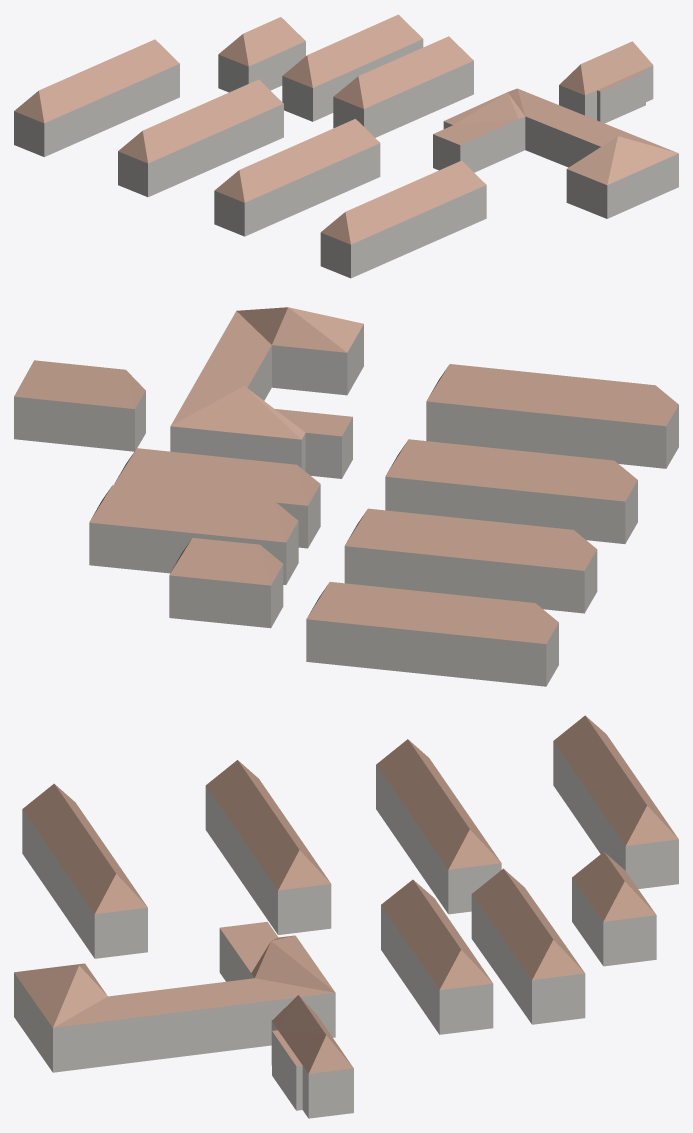
The model's file is gridID_40.dae.
3 renders of one model, top to bottom at view 1: azimuth 30°, elevation 25°; view 2: azimuth 150°, elevation 25°; view 3: azimuth 270°, elevation 25°, orthographic. The views are drawn at different scales.
Visible parts, largest first — view 1: model_gridID_40_w376378532, model_gridID_40_w376378541, model_gridID_40_w376378575, model_gridID_40_w376378580, model_gridID_40_w376378544, model_gridID_40_w376378597, model_gridID_40_w376378554, model_gridID_40_w376378532_002, model_gridID_40_w376378554_004; view 2: model_gridID_40_w376378532, model_gridID_40_w376378544, model_gridID_40_w376378575, model_gridID_40_w376378580, model_gridID_40_w376378541, model_gridID_40_w376378554, model_gridID_40_w376378532_002, model_gridID_40_w376378554_004, model_gridID_40_w376378597; view 3: model_gridID_40_w376378532, model_gridID_40_w376378541, model_gridID_40_w376378575, model_gridID_40_w376378544, model_gridID_40_w376378580, model_gridID_40_w376378554, model_gridID_40_w376378597, model_gridID_40_w376378532_002, model_gridID_40_w376378554_004.
Part boxes in pixels (x1=…): model_gridID_40_w376378532: x1=433, y1=88, x2=678, y2=218; model_gridID_40_w376378541: x1=214, y1=119, x2=380, y2=236; model_gridID_40_w376378575: x1=320, y1=160, x2=486, y2=278; model_gridID_40_w376378580: x1=118, y1=79, x2=283, y2=197; model_gridID_40_w376378544: x1=14, y1=39, x2=179, y2=156; model_gridID_40_w376378597: x1=333, y1=36, x2=473, y2=137; model_gridID_40_w376378554: x1=282, y1=14, x2=423, y2=121; model_gridID_40_w376378532_002: x1=559, y1=41, x2=653, y2=123; model_gridID_40_w376378554_004: x1=218, y1=17, x2=305, y2=92; model_gridID_40_w376378532: x1=170, y1=307, x2=363, y2=478; model_gridID_40_w376378544: x1=306, y1=582, x2=558, y2=686; model_gridID_40_w376378575: x1=426, y1=364, x2=678, y2=468; model_gridID_40_w376378580: x1=344, y1=508, x2=597, y2=613; model_gridID_40_w376378541: x1=385, y1=439, x2=637, y2=543; model_gridID_40_w376378554: x1=89, y1=485, x2=298, y2=584; model_gridID_40_w376378532_002: x1=14, y1=360, x2=145, y2=451; model_gridID_40_w376378554_004: x1=169, y1=538, x2=283, y2=628; model_gridID_40_w376378597: x1=114, y1=448, x2=320, y2=548; model_gridID_40_w376378532: x1=14, y1=921, x2=335, y2=1072; model_gridID_40_w376378541: x1=205, y1=760, x2=331, y2=934; model_gridID_40_w376378575: x1=22, y1=783, x2=147, y2=958; model_gridID_40_w376378544: x1=553, y1=715, x2=678, y2=888; model_gridID_40_w376378580: x1=376, y1=739, x2=501, y2=914; model_gridID_40_w376378554: x1=471, y1=868, x2=585, y2=1024; model_gridID_40_w376378597: x1=381, y1=879, x2=493, y2=1034; model_gridID_40_w376378532_002: x1=271, y1=995, x2=353, y2=1118; model_gridID_40_w376378554_004: x1=572, y1=852, x2=656, y2=966.
Bounding box in the file's own units: 122 × 101 × 12.5.
